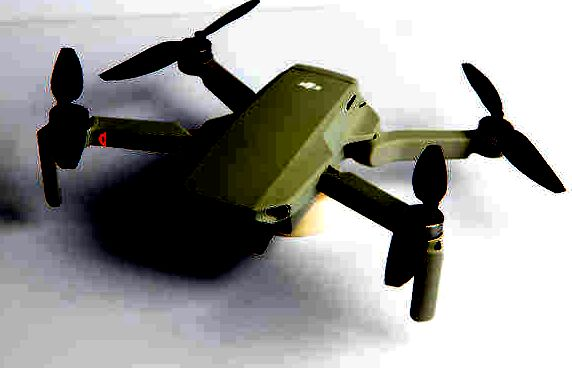Drone: (33, 0, 569, 328)
